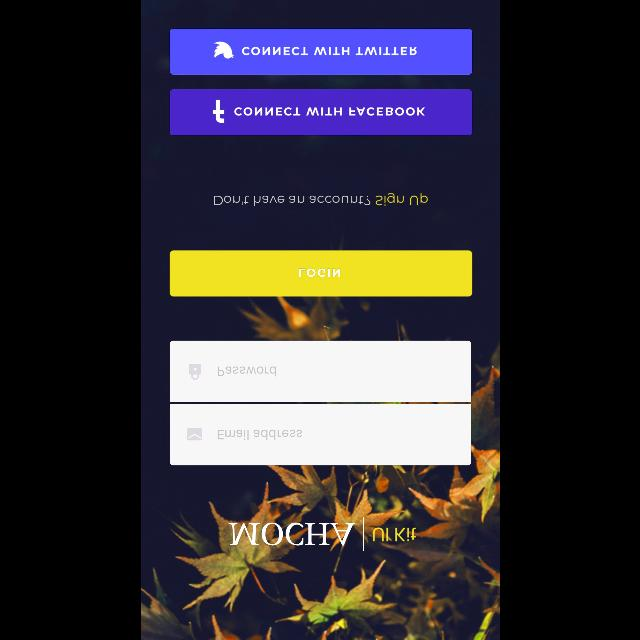backgroundimage: (140, 1, 500, 640)
icon: (188, 364, 200, 380), (186, 428, 202, 440)
input: (169, 404, 471, 466), (169, 341, 471, 402)
text: (228, 522, 354, 546), (213, 192, 427, 205), (217, 430, 301, 440), (372, 527, 416, 541), (217, 366, 276, 376)
textbutton: (170, 250, 472, 296), (170, 89, 472, 135), (170, 29, 472, 75)
